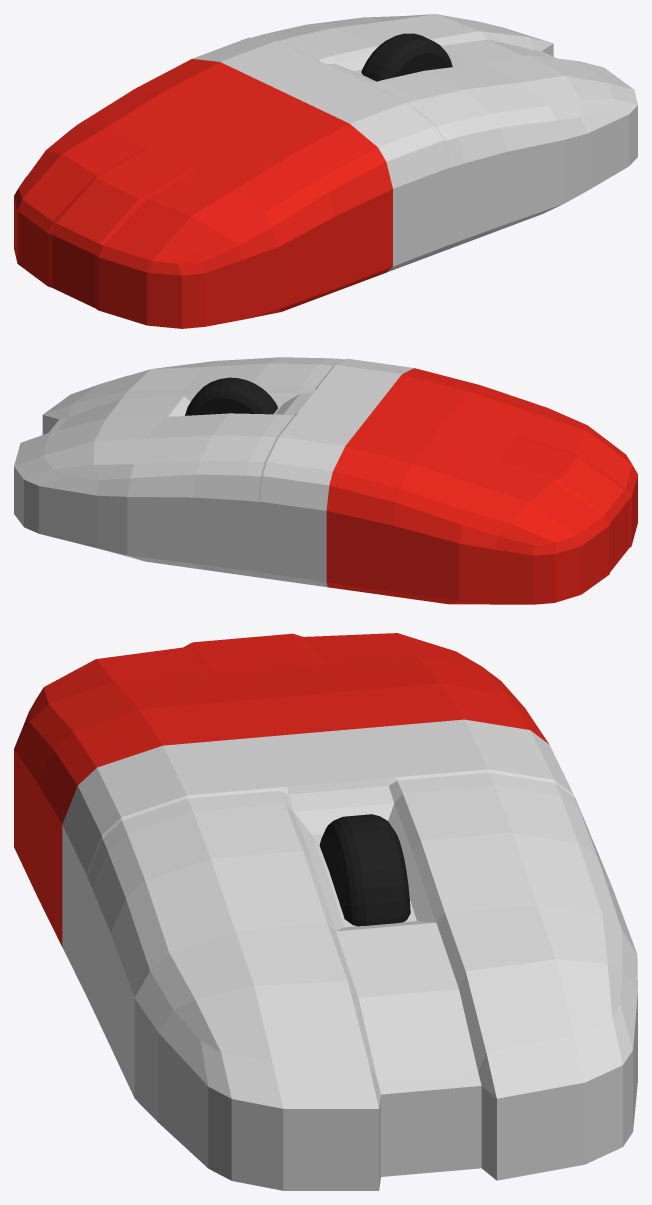
The model's file is mouse.glb.
The picture shows the model from 3 angles, top to bottom: view 1: azimuth 30°, elevation 25°; view 2: azimuth 150°, elevation 25°; view 3: azimuth 270°, elevation 25°; orthographic projection. The views are drawn at different scales.
Visible parts, largest first — view 1: Mouse_Back, Mouse_Front, Scroll; view 2: Mouse_Front, Mouse_Back, Scroll; view 3: Mouse_Front, Mouse_Back, Scroll.
Part boxes in pixels (x1,y1,x2,y2): Mouse_Back: (14, 59, 392, 328); Mouse_Front: (192, 14, 637, 272); Scroll: (361, 33, 452, 81); Mouse_Front: (14, 357, 413, 587); Mouse_Back: (326, 368, 637, 604); Scroll: (185, 377, 277, 415); Mouse_Front: (62, 719, 637, 1190); Mouse_Back: (14, 633, 548, 946); Scroll: (319, 814, 410, 926).
Bounding box in the file's own units: 0.2151 × 0.05 × 0.1256.
